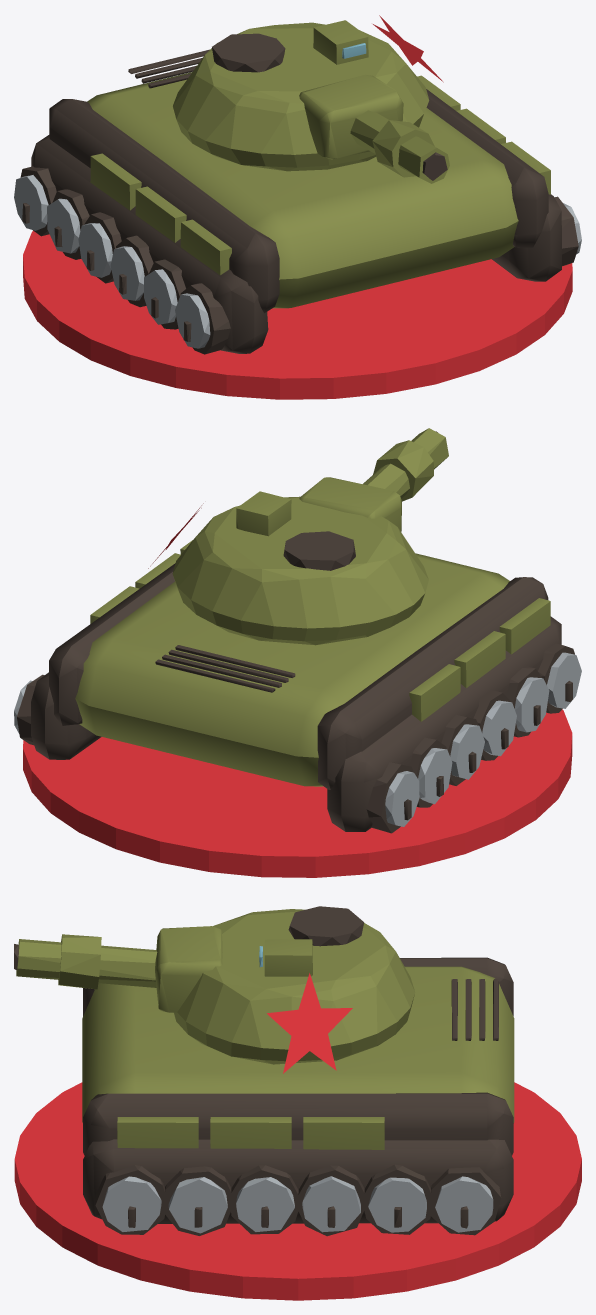
File: soviet_union_tank_lod0.glb
The picture shows the model from 3 angles, top to bottom: view 1: azimuth 30°, elevation 25°; view 2: azimuth 150°, elevation 25°; view 3: azimuth 270°, elevation 25°; orthographic projection. The views are drawn at different scales.
Visible parts, largest first — view 1: body_hull, base_pedestal; view 2: body_hull, base_pedestal; view 3: body_hull, base_pedestal.
Boxes of the visible parts, bbox=[...] form: body_hull: bbox=[14, 15, 581, 354]; base_pedestal: bbox=[23, 230, 572, 399]; body_hull: bbox=[14, 428, 581, 833]; base_pedestal: bbox=[23, 709, 572, 877]; body_hull: bbox=[14, 906, 514, 1236]; base_pedestal: bbox=[14, 1082, 581, 1300].
Bounding box in the file's own units: 0.7791 × 0.383 × 0.78.
